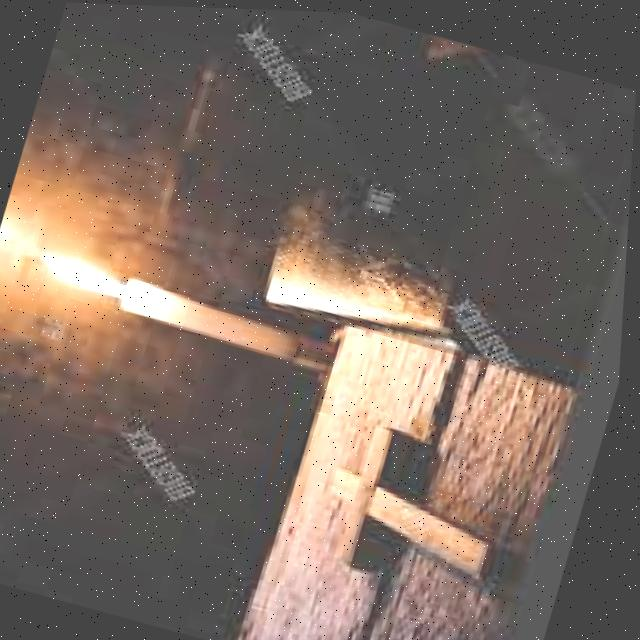Fire: (23, 240, 147, 310)
